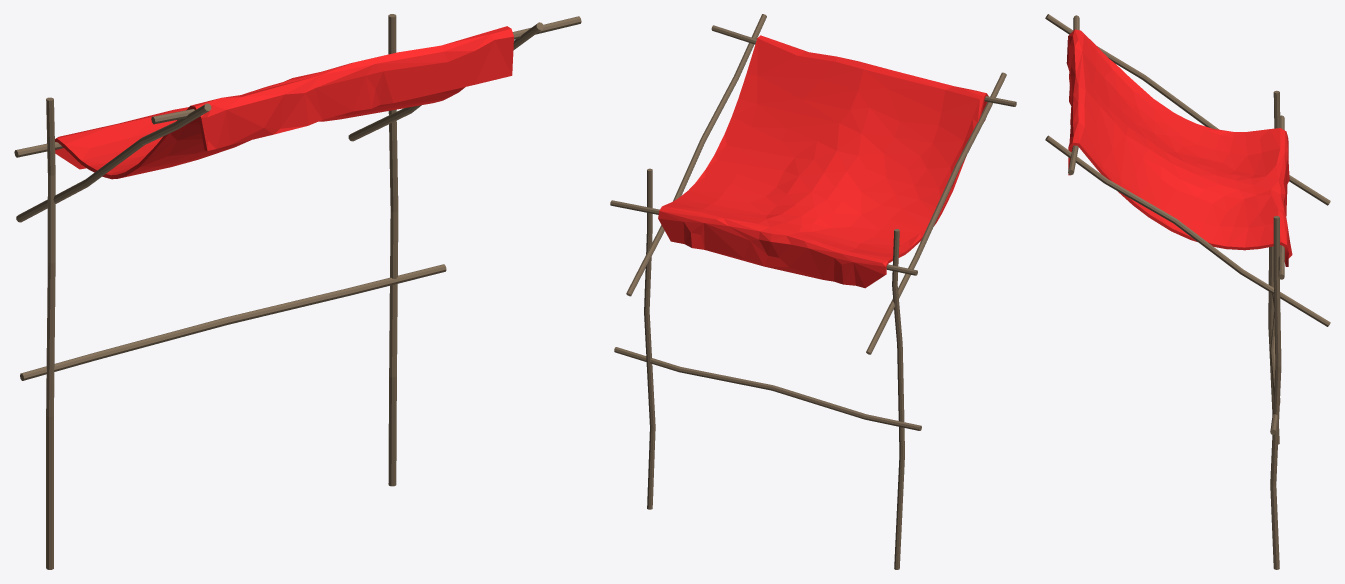
The model's file is stand_a.FBX.
3 views of the same model, side by side, from view 1: azimuth 30°, elevation 25°; view 2: azimuth 150°, elevation 25°; view 3: azimuth 270°, elevation 25° (orthographic). The views are drawn at different scales.
Parts seen in each view (by area): view 1: stand_a; view 2: stand_a; view 3: stand_a.
Boxes of the visible parts, <box> form: stand_a: <box>14,14,581,569</box>; stand_a: <box>610,14,1016,569</box>; stand_a: <box>1045,14,1330,569</box>.
Bounding box in the file's own units: 2.38 × 3.09 × 1.86.
